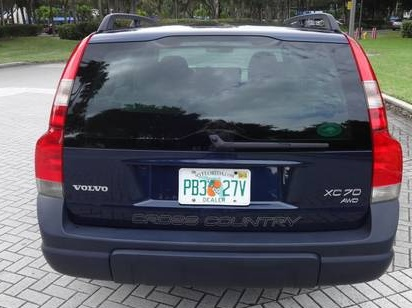volvo: (26, 8, 412, 295)
